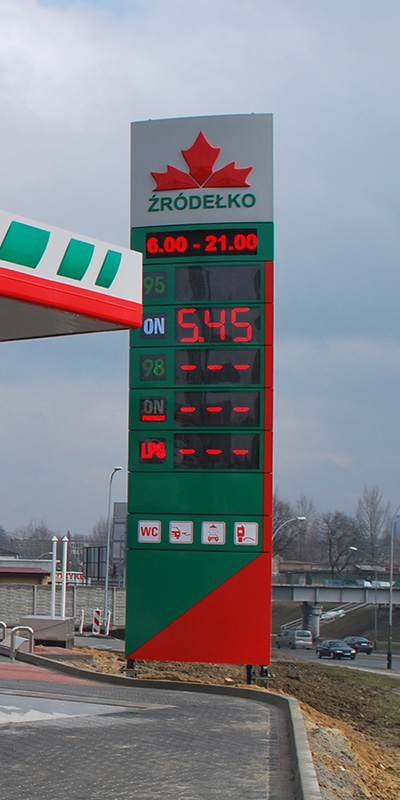LPG: (138, 434, 171, 466)
ON: (136, 390, 173, 423), (140, 312, 167, 338)
PB95: (139, 269, 167, 300)
PB98: (139, 348, 173, 385)
